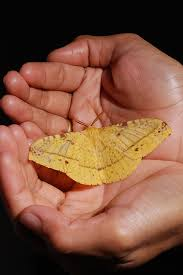Butterfly: (26, 118, 171, 187)
